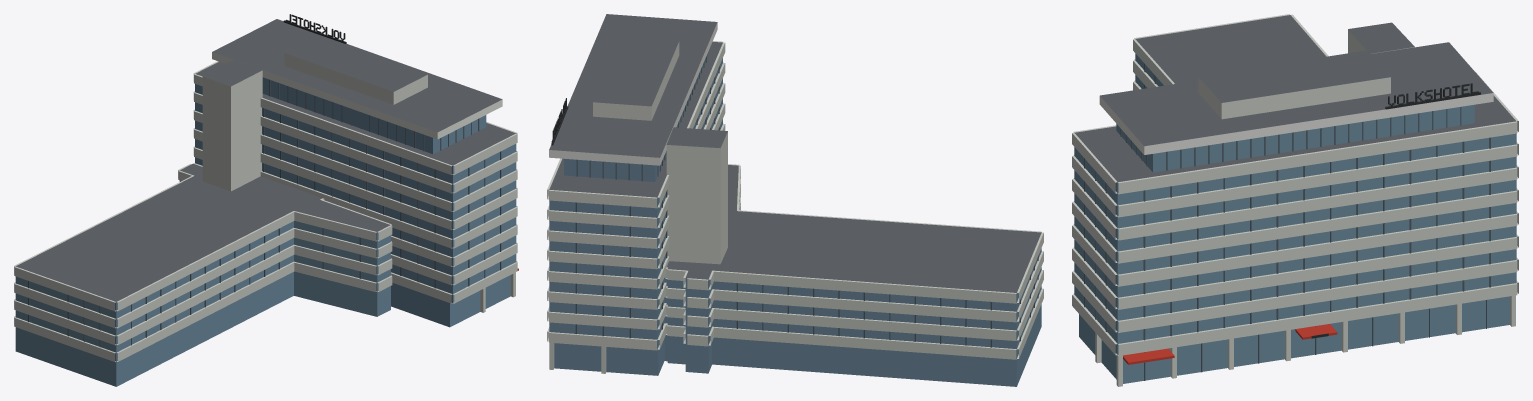
Rendered from volkshotel.glb.
3 renders of one model, left to right at view 1: azimuth 30°, elevation 25°; view 2: azimuth 150°, elevation 25°; view 3: azimuth 270°, elevation 25°, orthographic. The views are drawn at different scales.
Visible parts, largest first — view 1: volkshotel; view 2: volkshotel; view 3: volkshotel.
Part boxes in pixels (<box>): volkshotel: <box>14,14,518,386</box>; volkshotel: <box>547,14,1043,386</box>; volkshotel: <box>1072,14,1518,386</box>.
Size of the model in its own units: 78.17 by 34.4 by 54.56.
